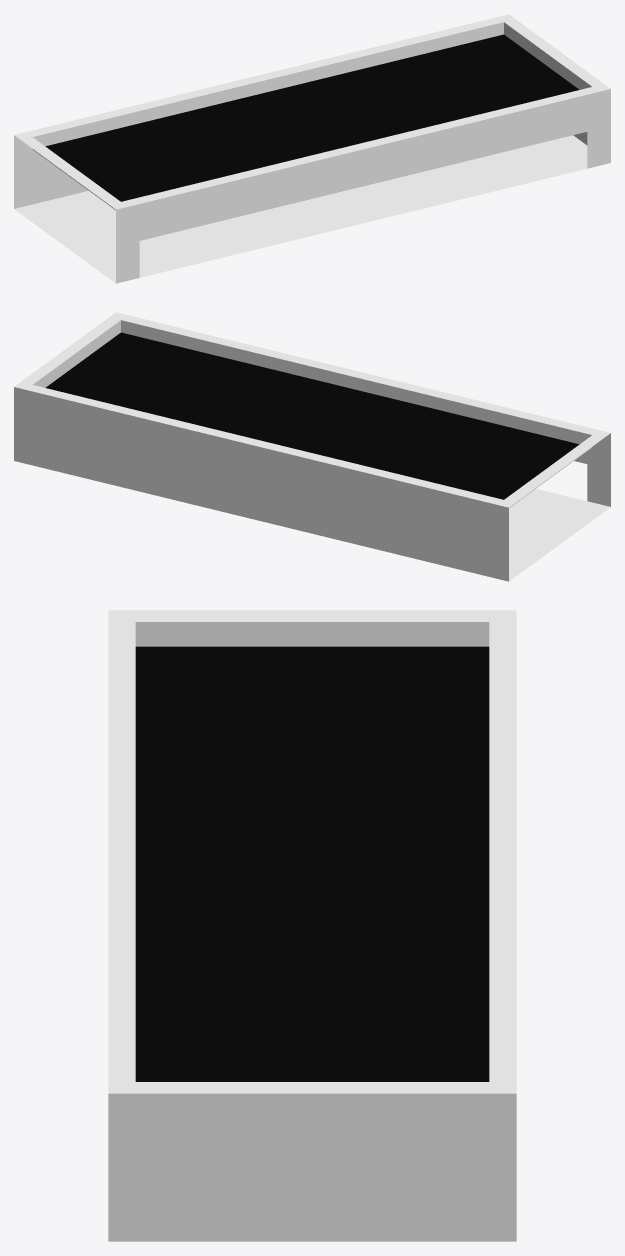
The model's file is BloqueCuerpo.fbx.
3 views of the same model, one above another, from view 1: azimuth 30°, elevation 25°; view 2: azimuth 150°, elevation 25°; view 3: azimuth 270°, elevation 25° (orthographic). The views are drawn at different scales.
Parts seen in each view (by area): view 1: Cuerpo; view 2: Cuerpo; view 3: Cuerpo.
Boxes of the visible parts, x1,y1,x2,y2 form: Cuerpo: [14, 14, 610, 283]; Cuerpo: [14, 312, 610, 581]; Cuerpo: [108, 610, 516, 1241].
Bounding box in the file's own units: 420 × 60 × 150.
Materials: 1 (1 with a texture image).
